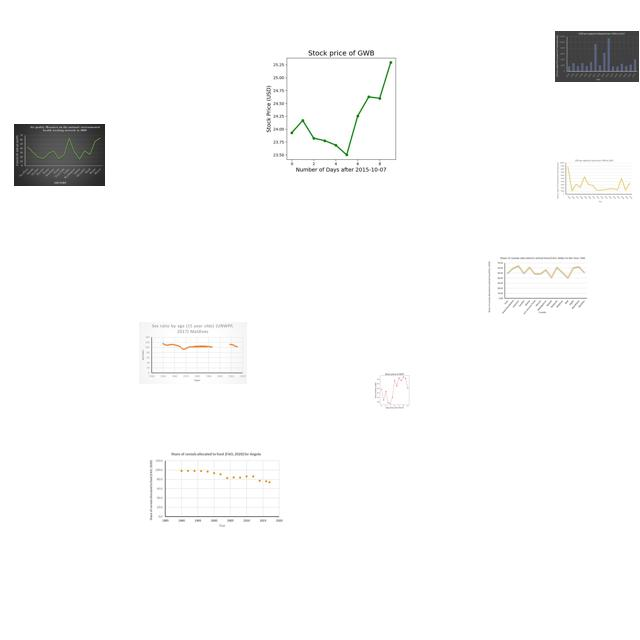Graph: (251, 42, 427, 174), (147, 450, 286, 532), (139, 322, 247, 384), (487, 256, 589, 316), (14, 124, 105, 186), (555, 31, 639, 82), (556, 159, 633, 203), (369, 371, 419, 409)
